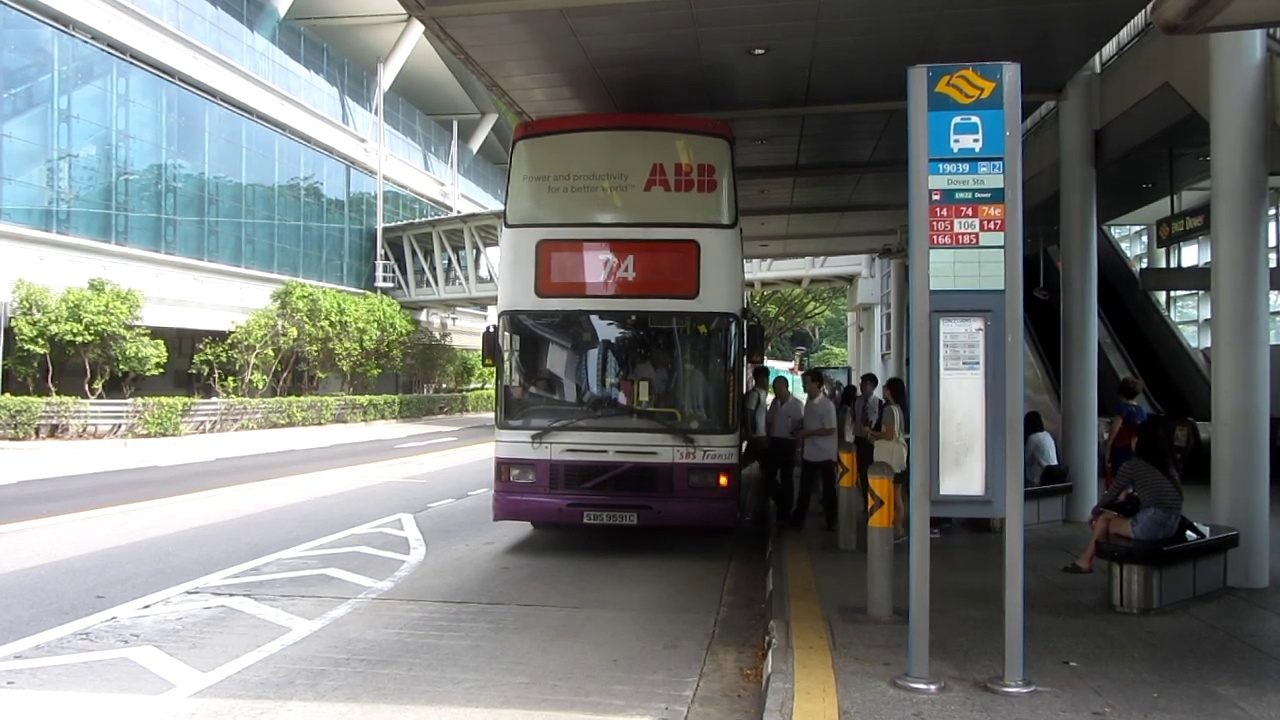bus panel: (532, 236, 703, 303)
